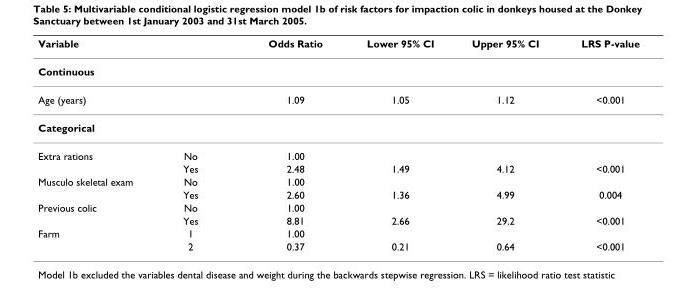table: (37, 36, 638, 251)
table column: (37, 36, 157, 251), (232, 36, 344, 251), (344, 36, 452, 251), (452, 36, 559, 251), (559, 36, 638, 251), (157, 36, 232, 251)
table column header: (37, 36, 638, 56)
table projected row header: (37, 56, 638, 85), (37, 113, 638, 141)
table row: (37, 56, 638, 85), (37, 85, 638, 113), (37, 113, 638, 141), (37, 36, 638, 56), (37, 141, 638, 161), (37, 161, 638, 174), (37, 174, 638, 187), (37, 187, 638, 200), (37, 200, 638, 213), (37, 213, 638, 226), (37, 226, 638, 239), (37, 239, 638, 251)
table spanning cell: (37, 141, 157, 174), (37, 174, 157, 200), (37, 200, 157, 226), (37, 226, 157, 251)
